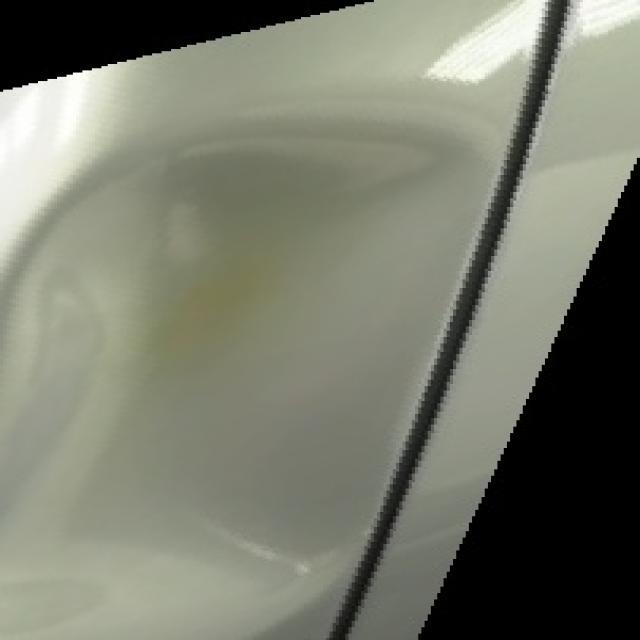dent: (4, 114, 502, 639)
